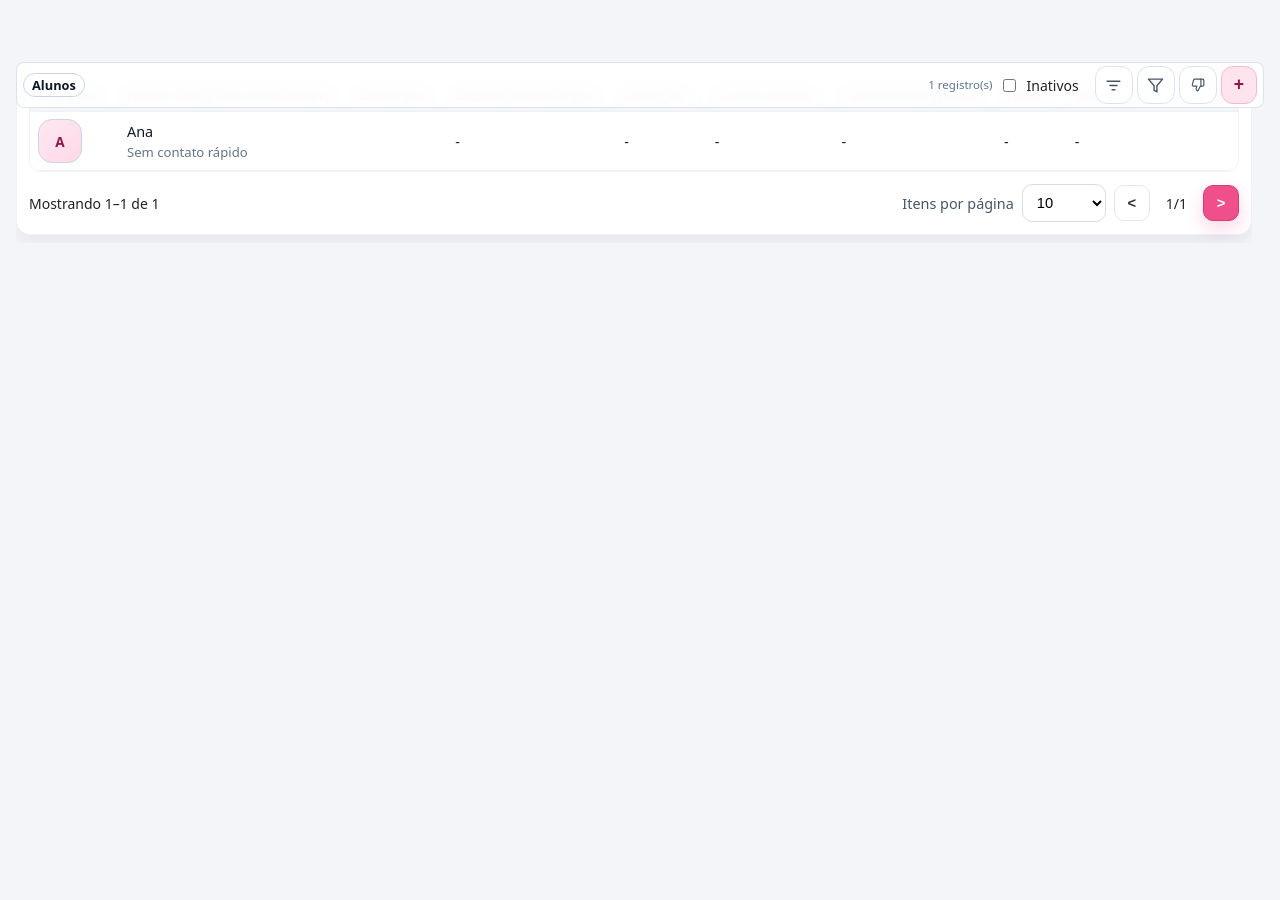
Test: Melhorias do formulário de alunos › drawer de alunos exibe apenas critérios de filtro
Click the button named "Abrir filtros" at [1114, 85], box top-left (1095, 66), bottom-right (1133, 104)
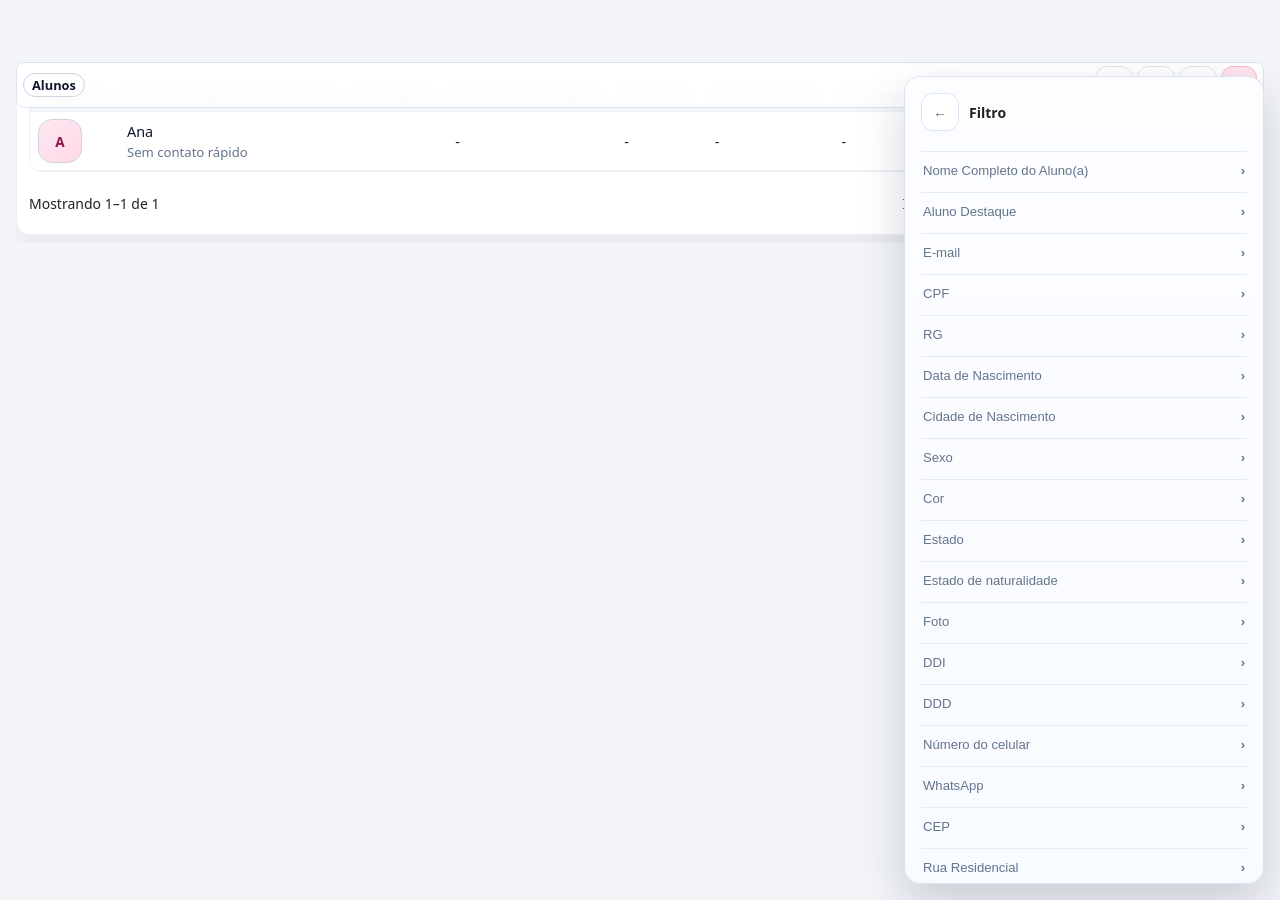
Check: the button "Sexo ›" is shown, box top-left (921, 439), bottom-right (1247, 480)
